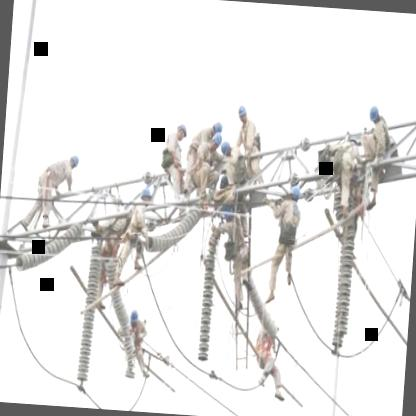helmet: (368, 101, 383, 131), (286, 182, 302, 208), (206, 131, 222, 156), (137, 184, 153, 208), (172, 122, 188, 146), (128, 305, 141, 334), (65, 150, 81, 172), (236, 102, 248, 128), (209, 116, 224, 135), (221, 140, 236, 158)
